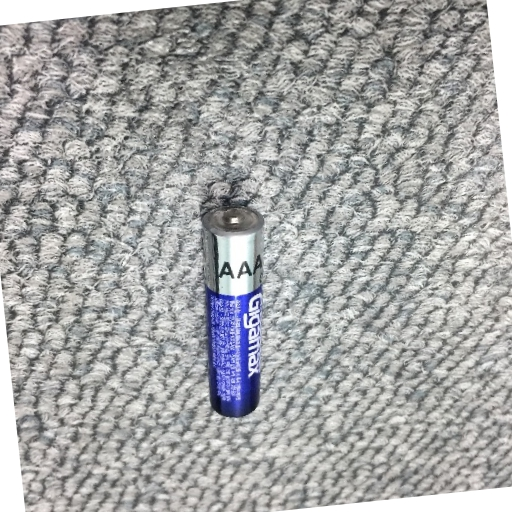Battery_0: (188, 192, 275, 422)
